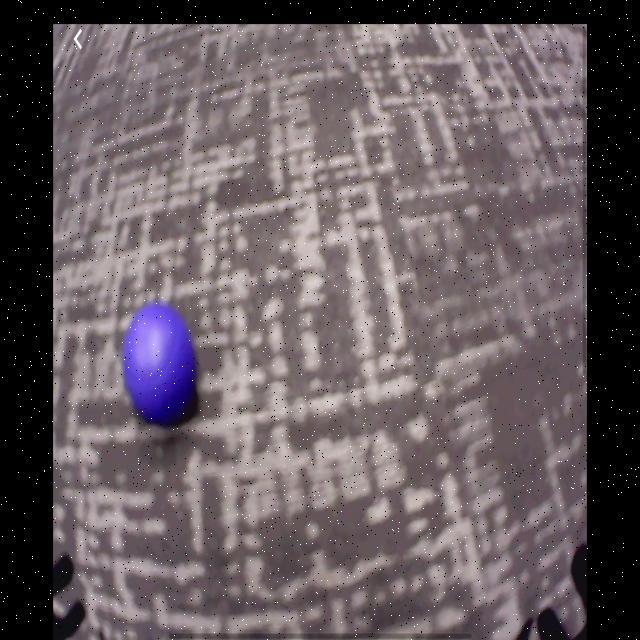ball: (123, 302, 199, 426)
